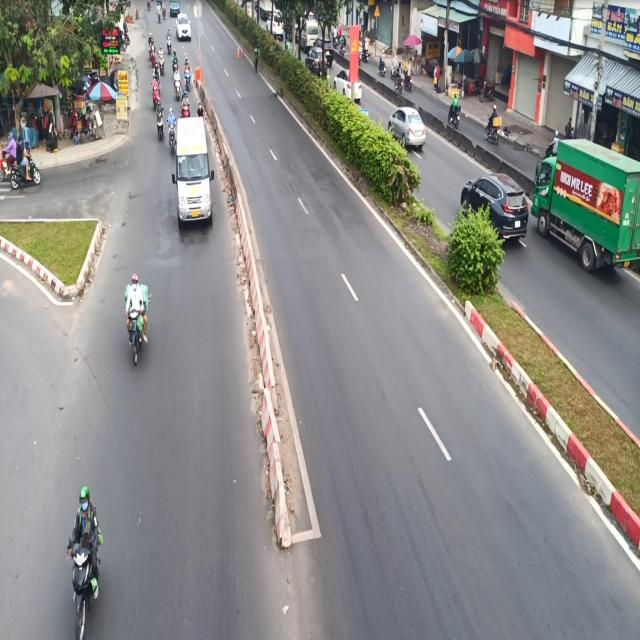car: (176, 109, 211, 230), (172, 11, 192, 42)
motor: (68, 488, 108, 640), (122, 269, 145, 377)
